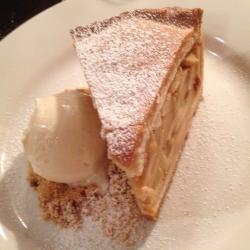apple_pie: (70, 7, 224, 230)
icecream: (14, 87, 113, 198)
